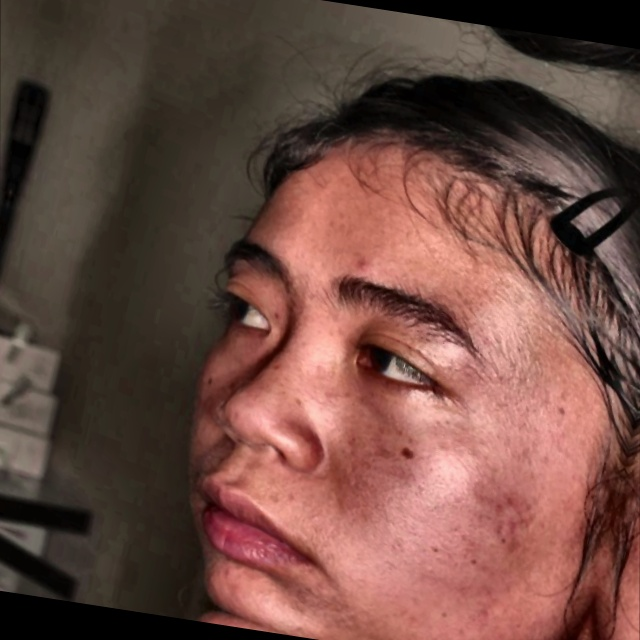comedone: (350, 251, 386, 283)
